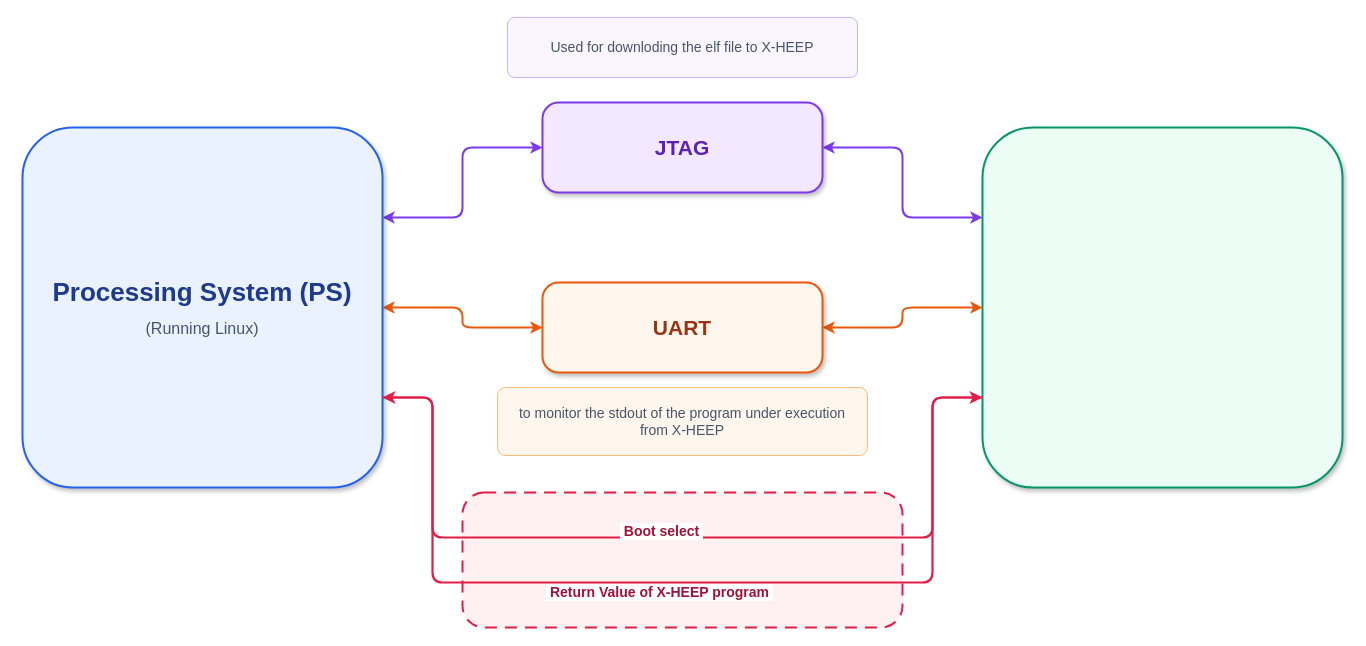
The diagram is 1366 pixels wide and 646 high, and some of its shapes have lost their labels. Here are the shapes that lost their labels. From the top down, the centre of each, then its label:
At [1163,308]: "X-HEEP (PL) (Bare-metal)".
At [682,559]: "GPIO".
